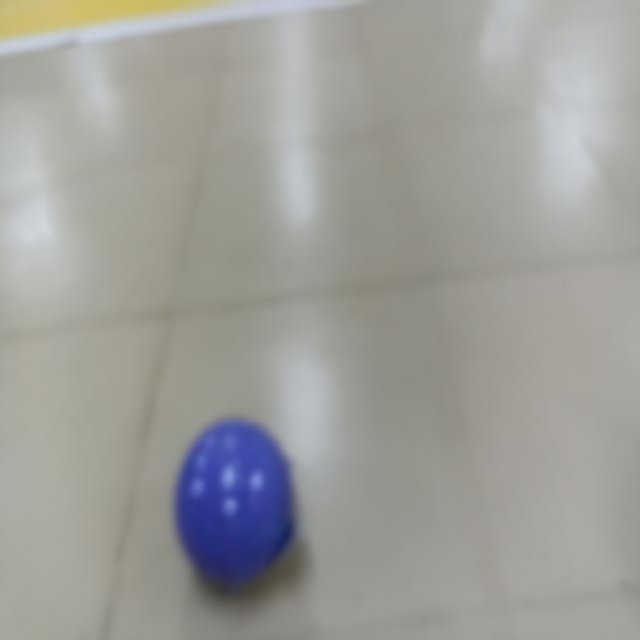purple_ball: (186, 426, 282, 566)
